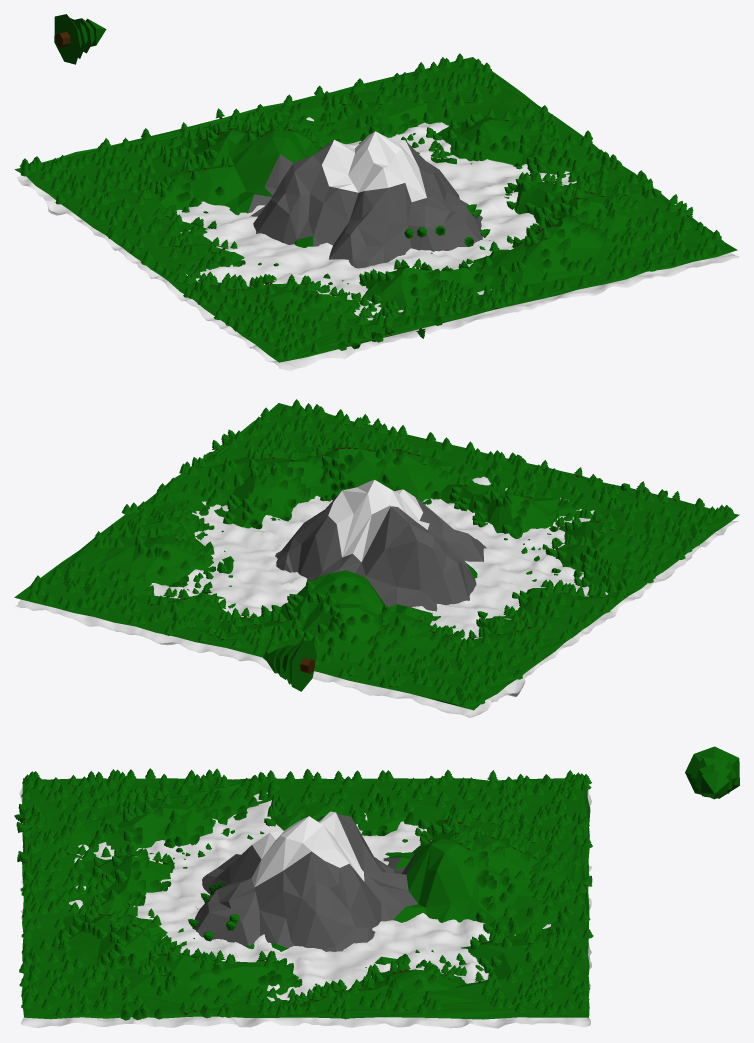
The model's file is world-v.2.fbx.
The picture shows the model from 3 angles, top to bottom: view 1: azimuth 30°, elevation 25°; view 2: azimuth 150°, elevation 25°; view 3: azimuth 270°, elevation 25°; orthographic projection. The views are drawn at different scales.
Visible parts, largest first — view 1: Landscape, Landscape_plane, Cylinder; view 2: Landscape, Landscape_plane, Cylinder; view 3: Landscape, Landscape_plane, Cylinder.
Part boxes in pixels (x1,y1,x2,y2): Landscape: (14, 57, 737, 362); Landscape_plane: (17, 117, 739, 370); Cylinder: (54, 14, 106, 64); Landscape: (14, 403, 739, 710); Landscape_plane: (15, 476, 739, 717); Cylinder: (263, 640, 316, 691); Landscape: (21, 778, 590, 1019); Landscape_plane: (19, 787, 591, 1028); Cylinder: (685, 746, 739, 799).
Size of the model in its own units: 205 by 46.15 by 256.
